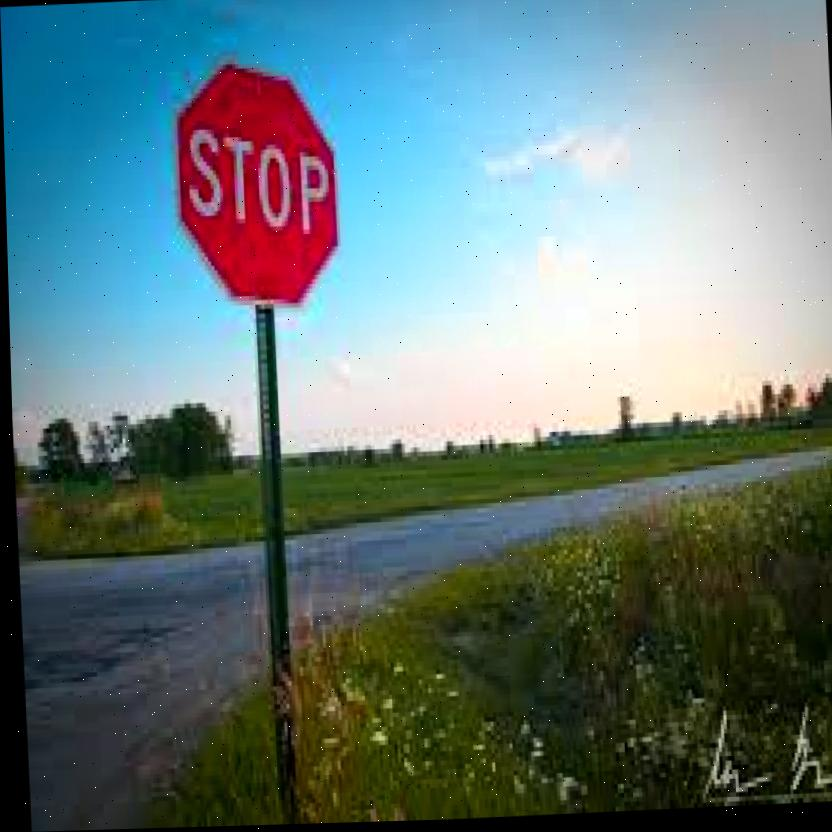Pole: (252, 309, 292, 822)
Sign: (170, 57, 340, 310)
